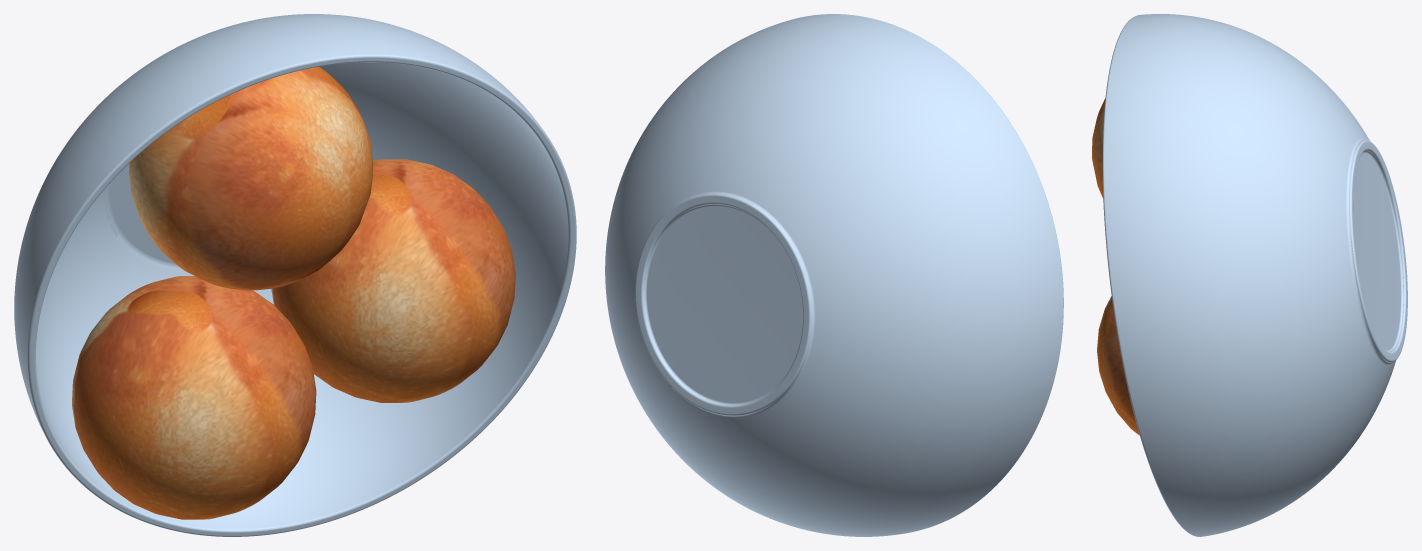
File: gulab.glb
3 renders of one model, left to right at view 1: azimuth 30°, elevation 25°; view 2: azimuth 150°, elevation 25°; view 3: azimuth 270°, elevation 25°, orthographic. The views are drawn at different scales.
Parts seen in each view (by area): view 1: Kugel.005, Sphere.002, Sphere.001, Sphere.003; view 2: Kugel.005; view 3: Kugel.005, Sphere.003, Sphere.001.
Part boxes in pixels (left/top/right/bottom): Kugel.005: left=14, top=14, right=576, bottom=536; Sphere.002: left=72, top=276, right=316, bottom=519; Sphere.001: left=129, top=66, right=372, bottom=290; Sphere.003: left=271, top=159, right=515, bottom=402; Kugel.005: left=605, top=14, right=1063, bottom=536; Kugel.005: left=1102, top=14, right=1407, bottom=536; Sphere.003: left=1097, top=296, right=1139, bottom=435; Sphere.001: left=1092, top=98, right=1105, bottom=198.
Size of the model in its own units: 4.74 by 4.72 by 2.87.
Materials: 4 (3 with a texture image).
